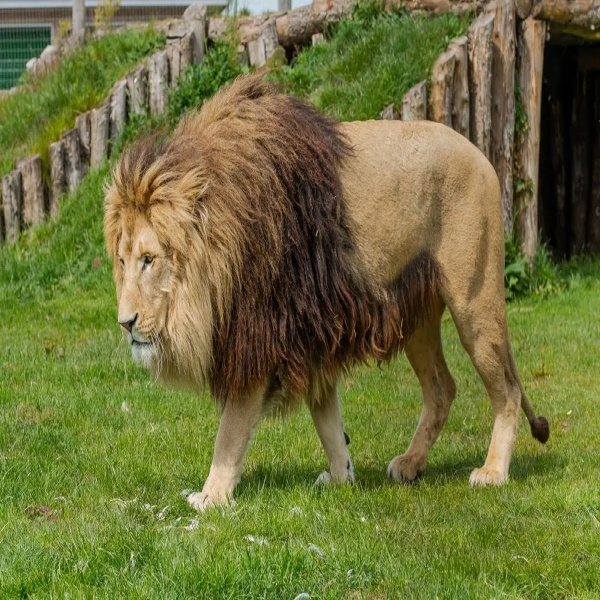Lion: (101, 65, 555, 520)
